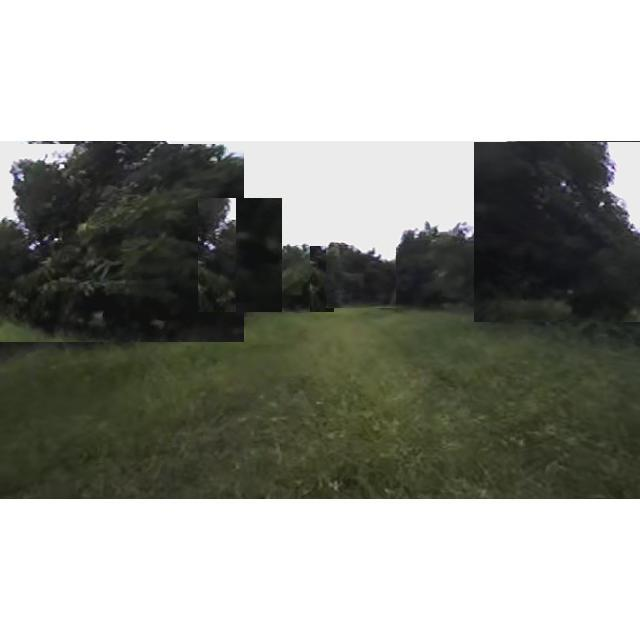direk: (0, 144, 244, 342), (474, 142, 640, 322), (370, 220, 484, 314), (198, 198, 282, 312), (258, 246, 334, 312), (326, 240, 396, 308)
